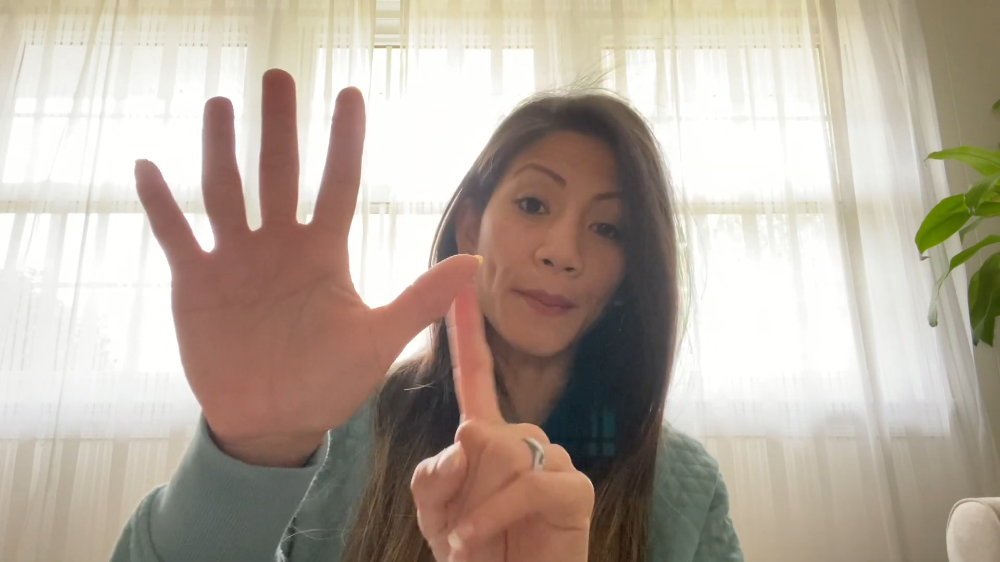hello: (132, 66, 481, 441)
